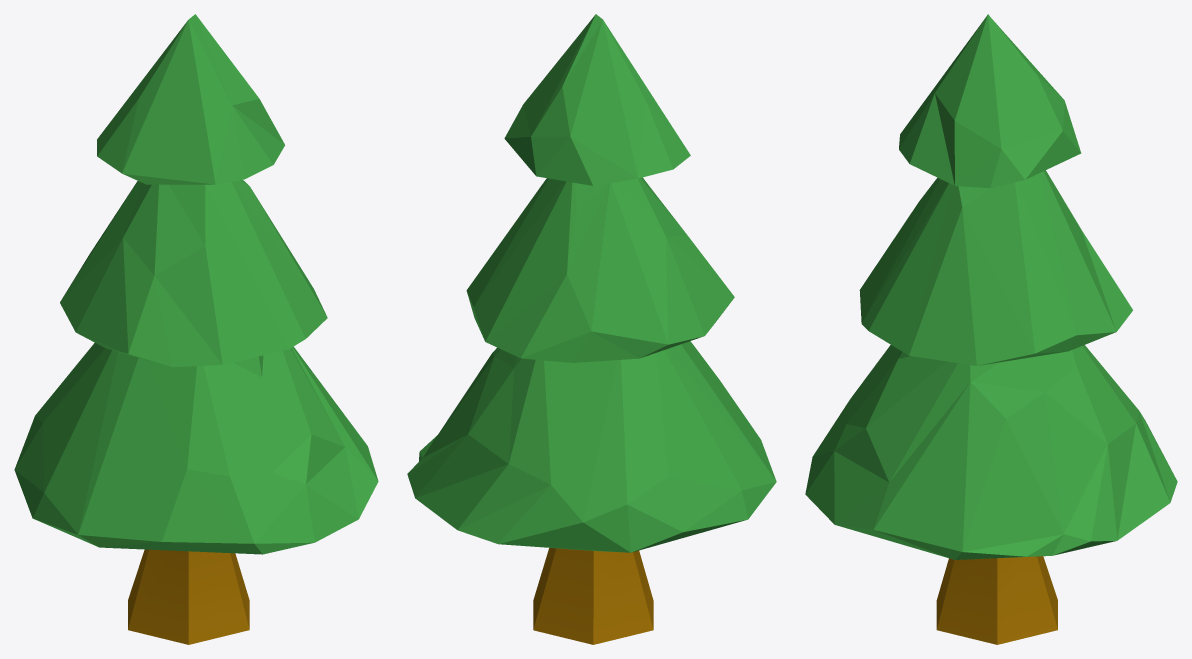
Rendered from tree3.fbx.
The picture shows the model from 3 angles, left to right: view 1: azimuth 30°, elevation 25°; view 2: azimuth 150°, elevation 25°; view 3: azimuth 270°, elevation 25°; orthographic projection.
Parts seen in each view (by area): view 1: stem_2:pCylinder2, stem_2:pCylinder3; view 2: stem_2:pCylinder2, stem_2:pCylinder3; view 3: stem_2:pCylinder2, stem_2:pCylinder3.
Boxes of the visible parts, x1,y1,x2,y2 form: stem_2:pCylinder2: [14, 14, 378, 554]; stem_2:pCylinder3: [128, 549, 249, 644]; stem_2:pCylinder2: [407, 14, 776, 552]; stem_2:pCylinder3: [533, 548, 653, 644]; stem_2:pCylinder2: [805, 14, 1177, 559]; stem_2:pCylinder3: [936, 556, 1057, 644].
Bounding box in the file's own units: 4.03 × 7.31 × 4.09.
